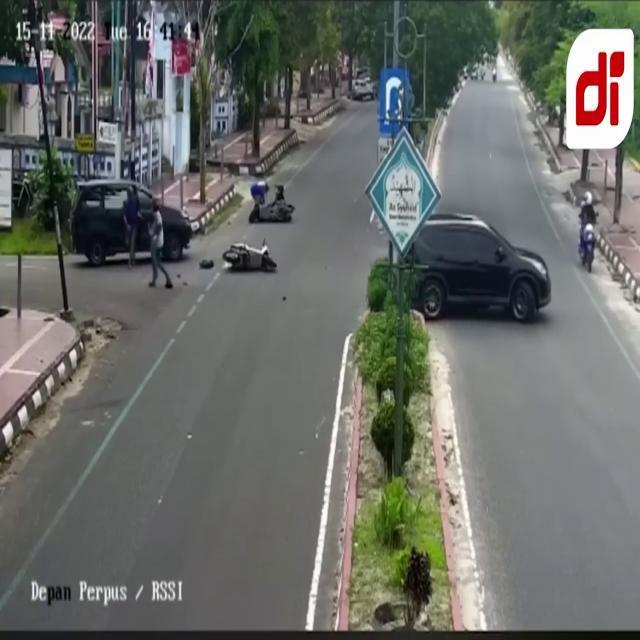multiple_accident: (85, 107, 317, 307)
normal: (377, 168, 603, 352)
